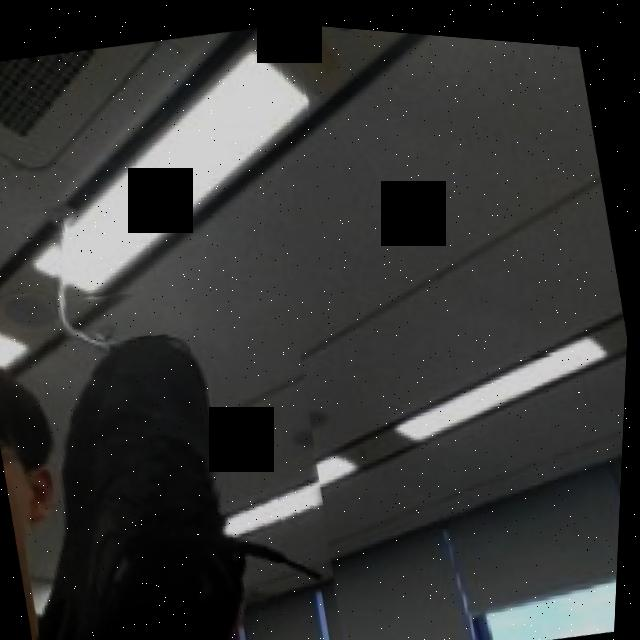shoe: (0, 240, 372, 640)
